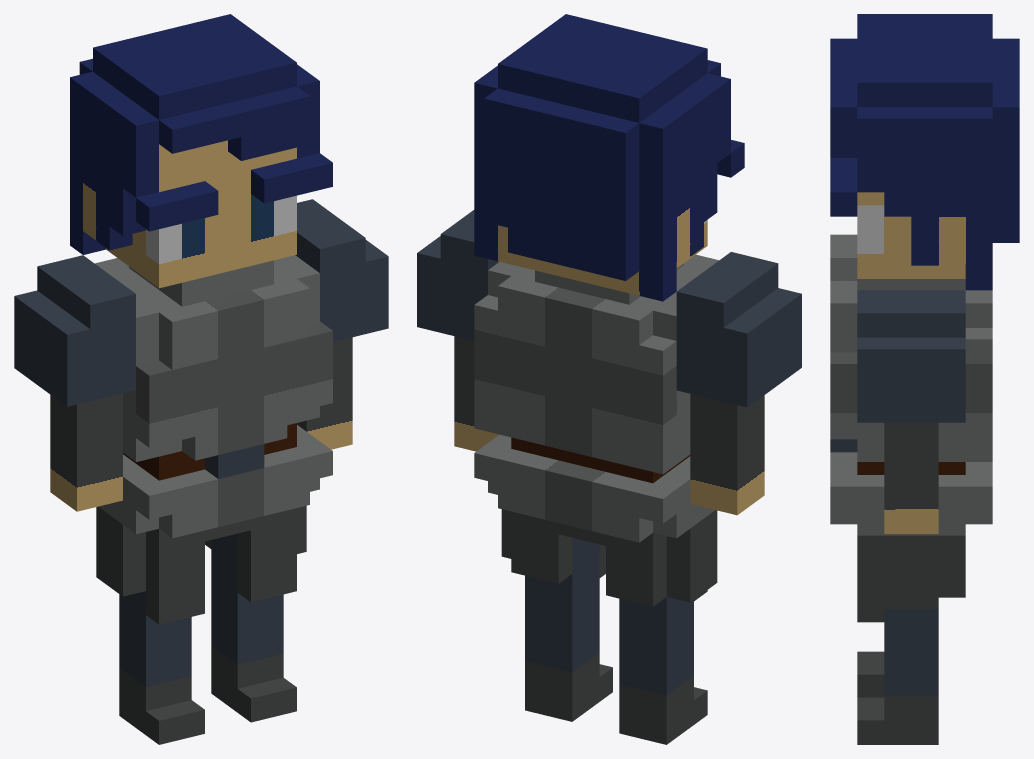
File: Warrior.fbx
The picture shows the model from 3 angles, left to right: view 1: azimuth 30°, elevation 25°; view 2: azimuth 150°, elevation 25°; view 3: azimuth 270°, elevation 25°; orthographic projection. The views are drawn at different scales.
Visible parts, largest first — view 1: Warrior.Merged; view 2: Warrior.Merged; view 3: Warrior.Merged.
Boxes of the visible parts, bbox=[...] form: Warrior.Merged: bbox=[14, 14, 388, 744]; Warrior.Merged: bbox=[417, 14, 801, 744]; Warrior.Merged: bbox=[830, 14, 1019, 744].
Size of the model in its own units: 168 by 324 by 84.
